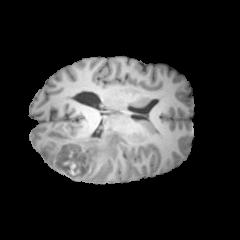glioma: (42, 127, 128, 181)
